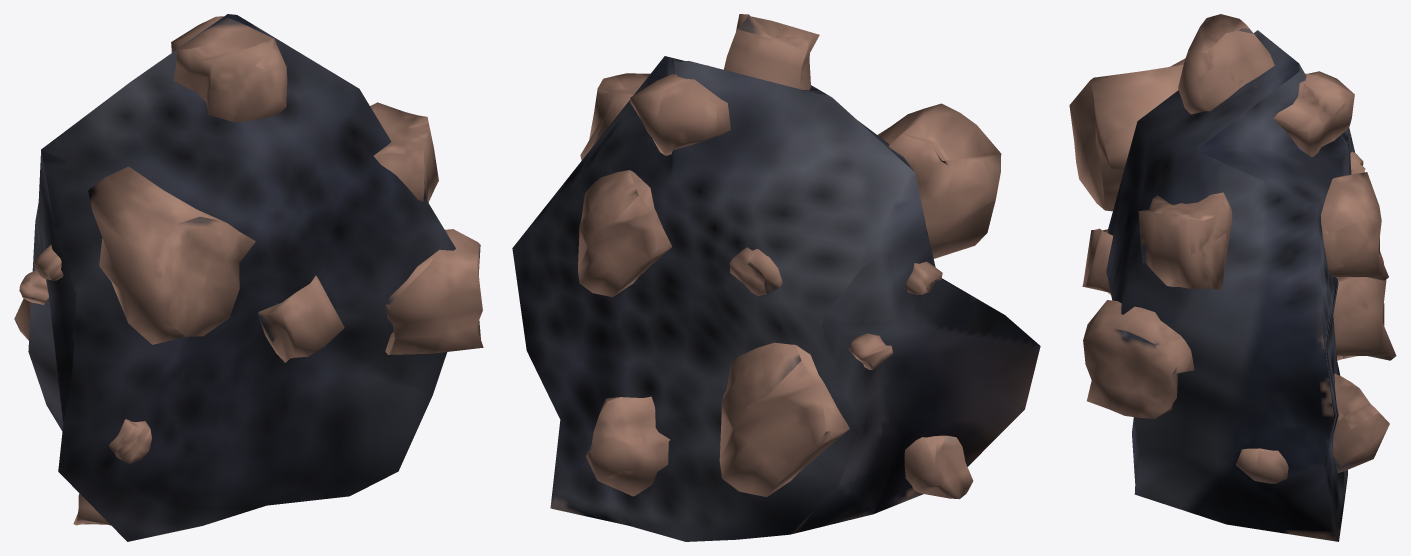
The model's file is CobreMinerio.fbx.
3 views of the same model, side by side, from view 1: azimuth 30°, elevation 25°; view 2: azimuth 150°, elevation 25°; view 3: azimuth 270°, elevation 25° (orthographic). The views are drawn at different scales.
Visible parts, largest first — view 1: MinerioCobre; view 2: MinerioCobre; view 3: MinerioCobre.
Boxes of the visible parts, x1,y1,x2,y2 form: MinerioCobre: (14,14,483,541); MinerioCobre: (512,14,1040,541); MinerioCobre: (1069,14,1396,541).
Bounding box in the file's own units: 607 × 631 × 418.
